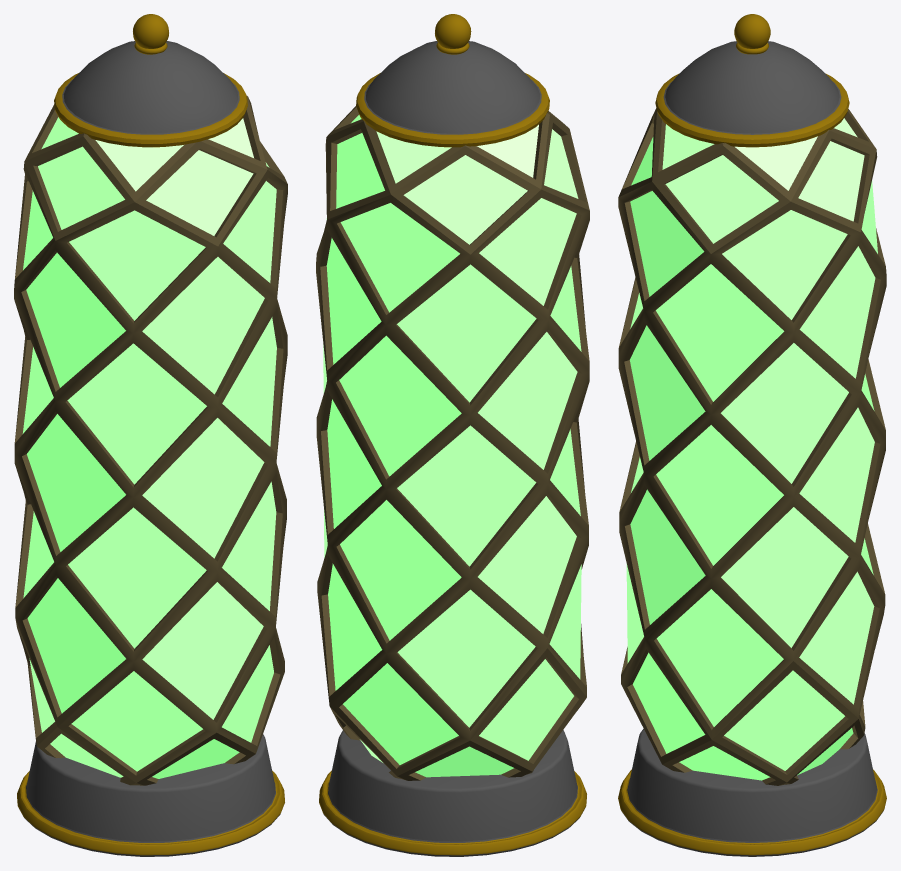
File: Turtle Egg 1x1.fbx
3 renders of one model, left to right at view 1: azimuth 30°, elevation 25°; view 2: azimuth 150°, elevation 25°; view 3: azimuth 270°, elevation 25°, orthographic.
Parts seen in each view (by area): view 1: Egg, Base.005, Egg_top.002, Sphere.006; view 2: Egg, Base.005, Egg_top.002, Sphere.006; view 3: Egg, Base.005, Egg_top.002, Sphere.006.
Boxes of the visible parts, x1,y1,x2,y2 form: Egg: (14, 96, 287, 785); Base.005: (17, 734, 284, 856); Egg_top.002: (54, 41, 247, 147); Sphere.006: (133, 14, 168, 48); Egg: (316, 106, 589, 780); Base.005: (319, 730, 586, 856); Egg_top.002: (356, 41, 549, 147); Sphere.006: (435, 14, 471, 48); Egg: (618, 108, 886, 785); Base.005: (618, 728, 886, 856); Egg_top.002: (655, 41, 849, 147); Sphere.006: (734, 14, 770, 48).
Size of the model in its own units: 100 by 323 by 100.
